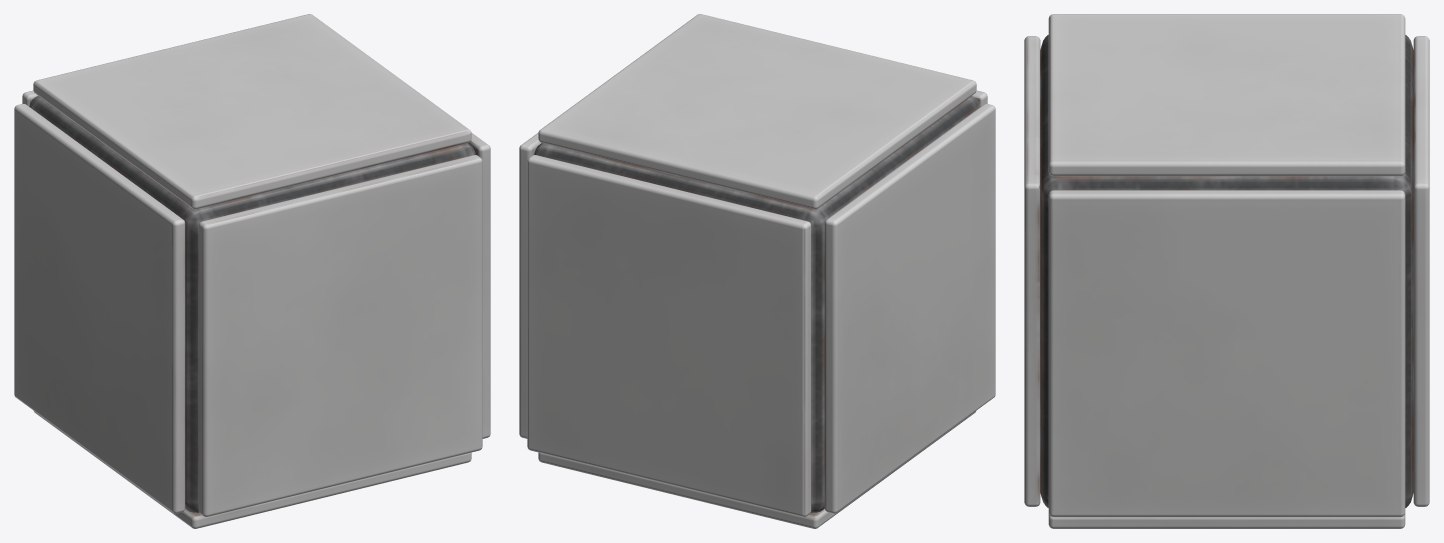
Rendered from SM_PartFrameCorner.glb.
3 renders of one model, left to right at view 1: azimuth 30°, elevation 25°; view 2: azimuth 150°, elevation 25°; view 3: azimuth 270°, elevation 25°, orthographic. The views are drawn at different scales.
Visible parts, largest first — view 1: SM_PartFrameCorner; view 2: SM_PartFrameCorner; view 3: SM_PartFrameCorner.
Part boxes in pixels (left/top/right/bottom): SM_PartFrameCorner: left=14, top=14, right=490, bottom=528; SM_PartFrameCorner: left=519, top=14, right=995, bottom=528; SM_PartFrameCorner: left=1024, top=14, right=1429, bottom=528.
Size of the model in its own units: 0.5 by 0.5 by 0.5.
2 materials, 2 textured.
